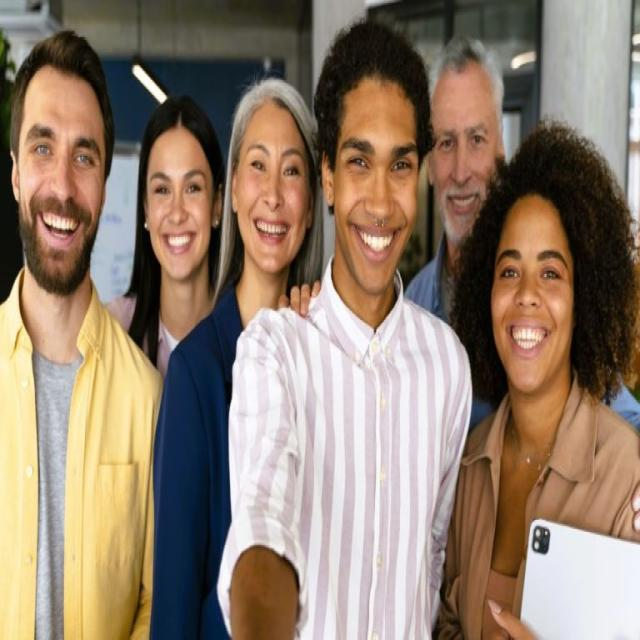without_helmet: (449, 124, 636, 454), (313, 11, 436, 306), (11, 34, 112, 312), (230, 48, 321, 298), (137, 90, 232, 304), (425, 44, 511, 252)
